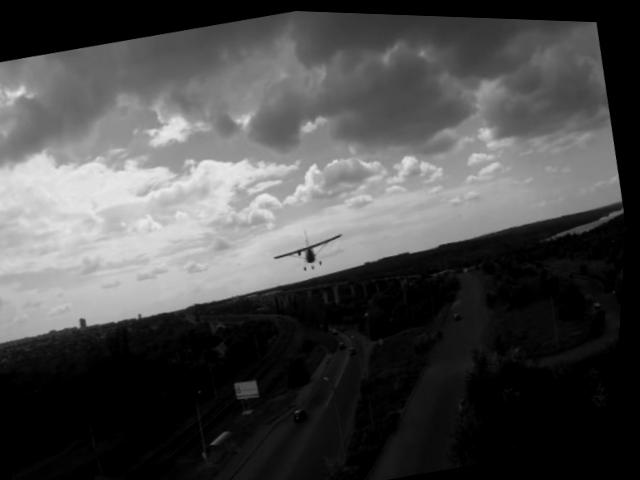hedef: (263, 219, 356, 284)
